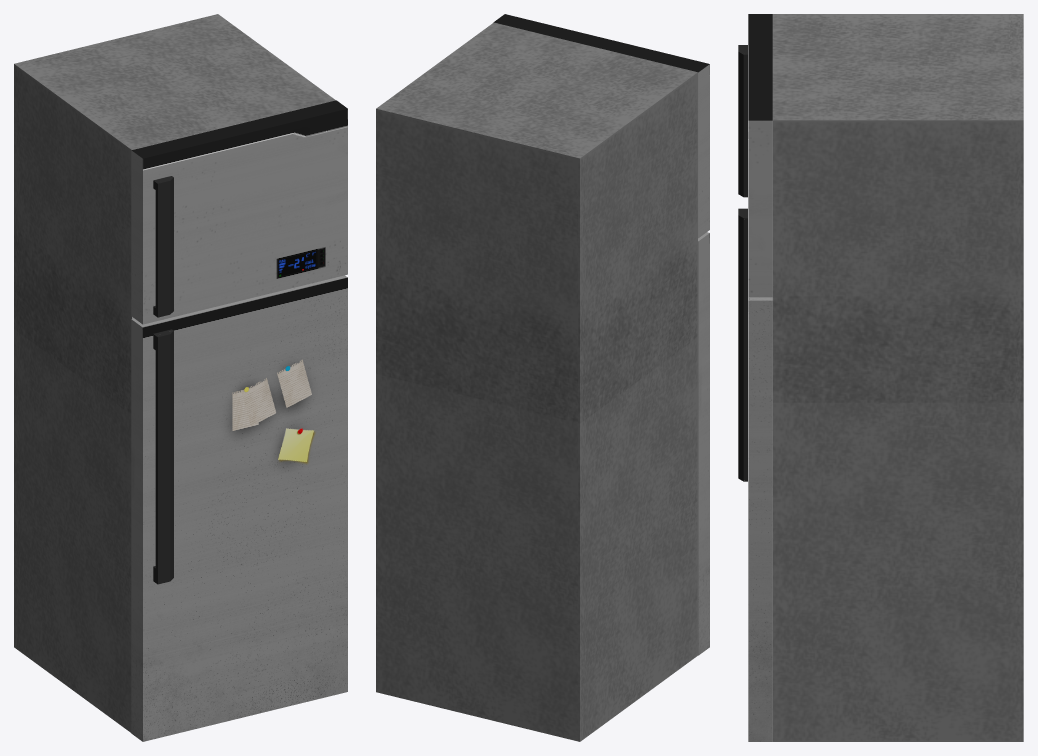
The model's file is Kulkas 6.fbx.
3 renders of one model, left to right at view 1: azimuth 30°, elevation 25°; view 2: azimuth 150°, elevation 25°; view 3: azimuth 270°, elevation 25°, orthographic. The views are drawn at different scales.
Visible parts, largest first — view 1: Kulas Door Lower, Kulkas Bottom Left, Kulas Door Upper, Kulkas Up Top, Kulkas Up Left, Kulkas Back, Kulkas; view 2: Kulkas Back, Kulkas Bottom Left, Kulkas Up Top, Kulkas Up Left, Kulas Door Lower, Kulas Door Upper, Kulkas; view 3: Kulkas Bottom Right, Kulkas Up Right, Kulkas Up Top, Kulas Door Lower, Kulkas Back, Kulas Door Upper, Kulkas.
Boxes of the visible parts, bbox=[...] form: Kulas Door Lower: bbox=[131, 275, 347, 741]; Kulkas Bottom Left: bbox=[21, 237, 133, 732]; Kulas Door Upper: bbox=[131, 100, 347, 324]; Kulkas Up Top: bbox=[21, 19, 335, 149]; Kulkas Up Left: bbox=[21, 69, 131, 303]; Kulkas Back: bbox=[14, 14, 224, 652]; Kulkas: bbox=[21, 224, 133, 318]; Kulkas Back: bbox=[376, 103, 587, 741]; Kulkas Bottom Left: bbox=[587, 240, 697, 736]; Kulkas Up Top: bbox=[383, 22, 697, 152]; Kulkas Up Left: bbox=[587, 72, 697, 307]; Kulas Door Lower: bbox=[698, 232, 709, 655]; Kulas Door Upper: bbox=[493, 14, 709, 238]; Kulkas: bbox=[587, 227, 697, 320]; Kulkas Bottom Right: bbox=[772, 298, 1008, 741]; Kulkas Up Right: bbox=[772, 120, 1008, 284]; Kulkas Up Top: bbox=[772, 14, 1008, 120]; Kulas Door Lower: bbox=[738, 208, 772, 741]; Kulkas Back: bbox=[1008, 14, 1023, 741]; Kulas Door Upper: bbox=[738, 14, 772, 297]; Kulkas: bbox=[772, 285, 1008, 298].
Size of the model in its own units: 76.56 by 208 by 86.69.
